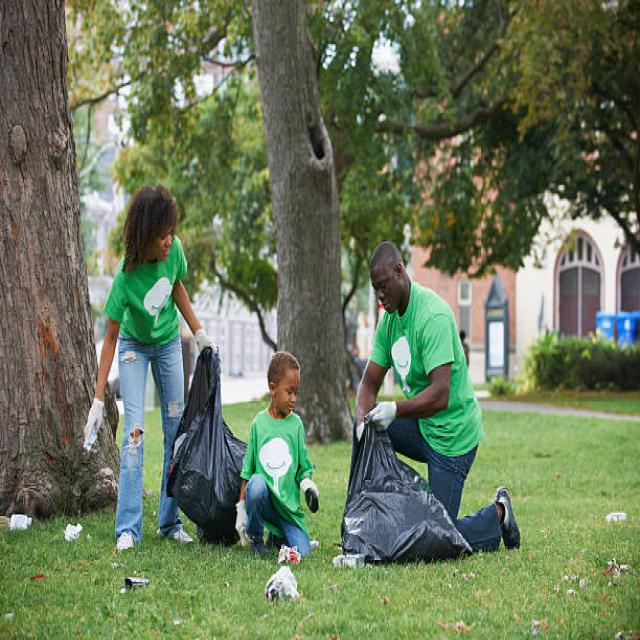trash: (342, 422, 455, 565), (173, 361, 244, 527)
